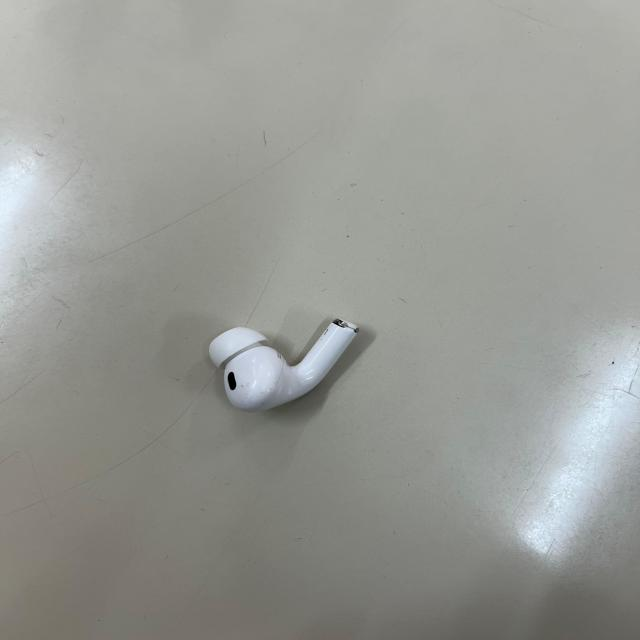inorganic: (208, 316, 362, 414)
